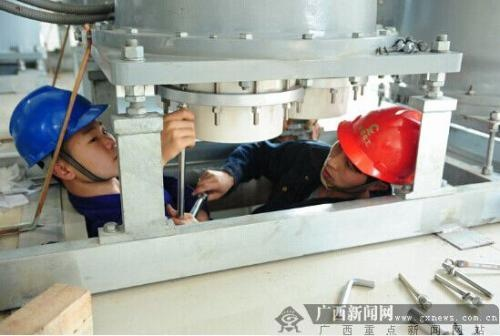blue: (8, 85, 124, 187)
red: (322, 101, 422, 191)
